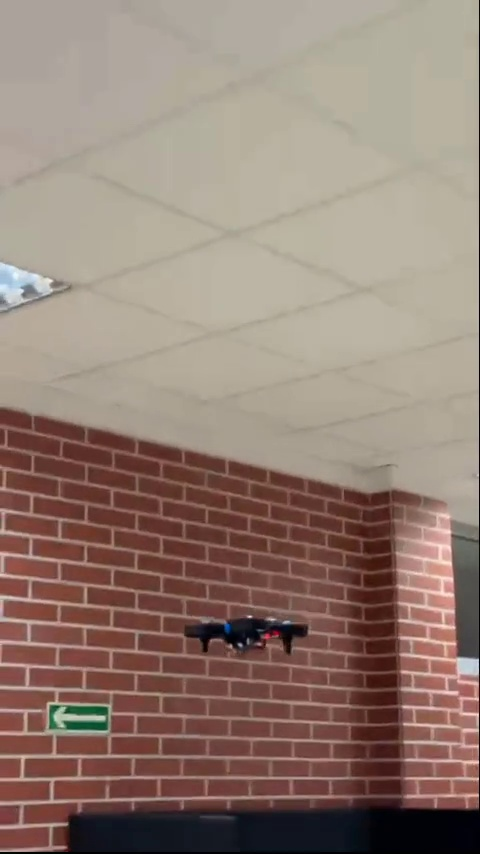drone: (184, 616, 304, 657)
